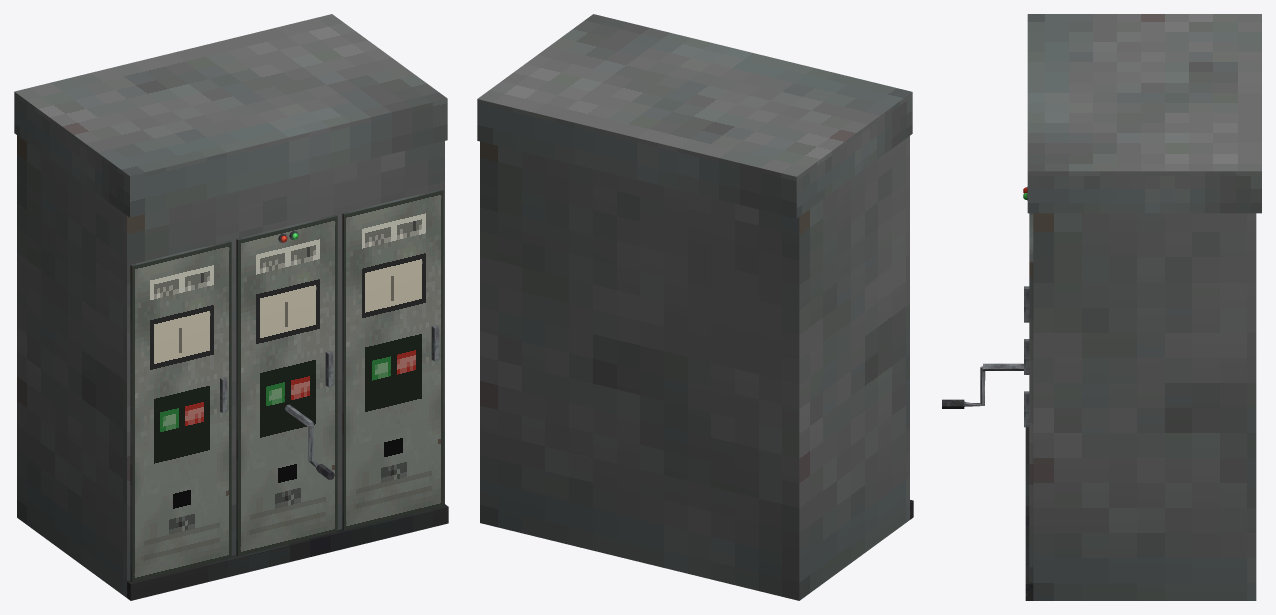
The model's file is switchgear.glb.
The picture shows the model from 3 angles, left to right: view 1: azimuth 30°, elevation 25°; view 2: azimuth 150°, elevation 25°; view 3: azimuth 270°, elevation 25°; orthographic projection.
Visible parts, largest first — view 1: switchgear, switchgear_handle; view 2: switchgear; view 3: switchgear, switchgear_handle.
Boxes of the visible parts, x1,y1,x2,y2 form: switchgear: (14,14,448,600); switchgear_handle: (285,404,334,479); switchgear: (477,14,913,600); switchgear: (1024,14,1261,600); switchgear_handle: (942,363,1023,408).
Bounding box in the file's own units: 2 × 2.55 × 1.72.
Materials: 4 (4 with a texture image).
